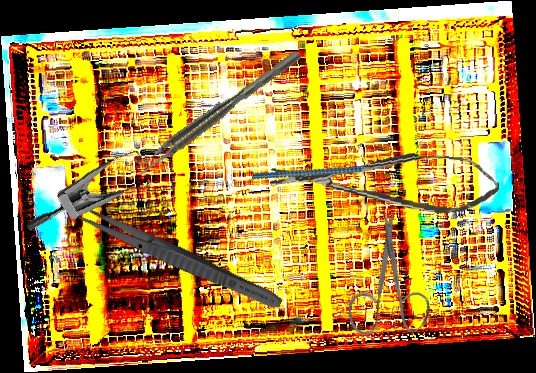Chopper: (251, 121, 401, 215)
Dressing Forceps: (71, 201, 286, 315)
Iris Scissors: (308, 205, 462, 361)
Micro Scissor: (268, 141, 502, 218)
Speculum: (22, 116, 192, 282)
Tissue Forceps: (132, 49, 306, 178)
